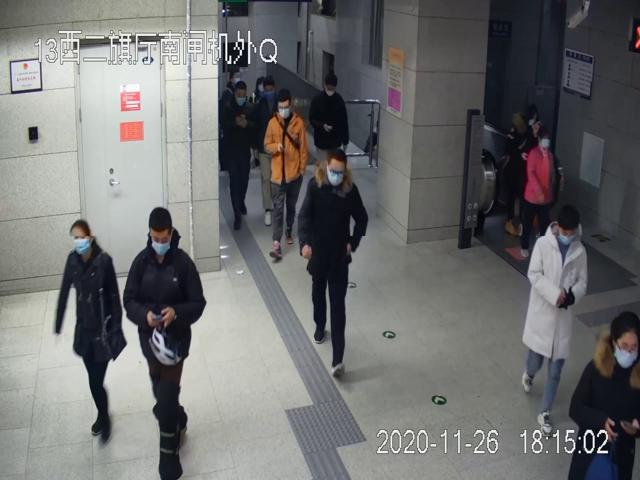person: (123, 207, 206, 480), (298, 148, 368, 380), (56, 219, 124, 447), (522, 206, 587, 438), (265, 88, 308, 262), (225, 80, 254, 230), (308, 73, 349, 166)
